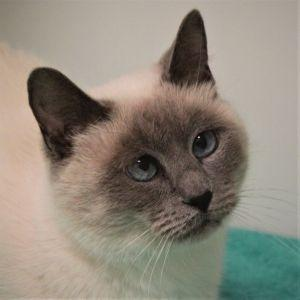siamese: (17, 2, 268, 261)
